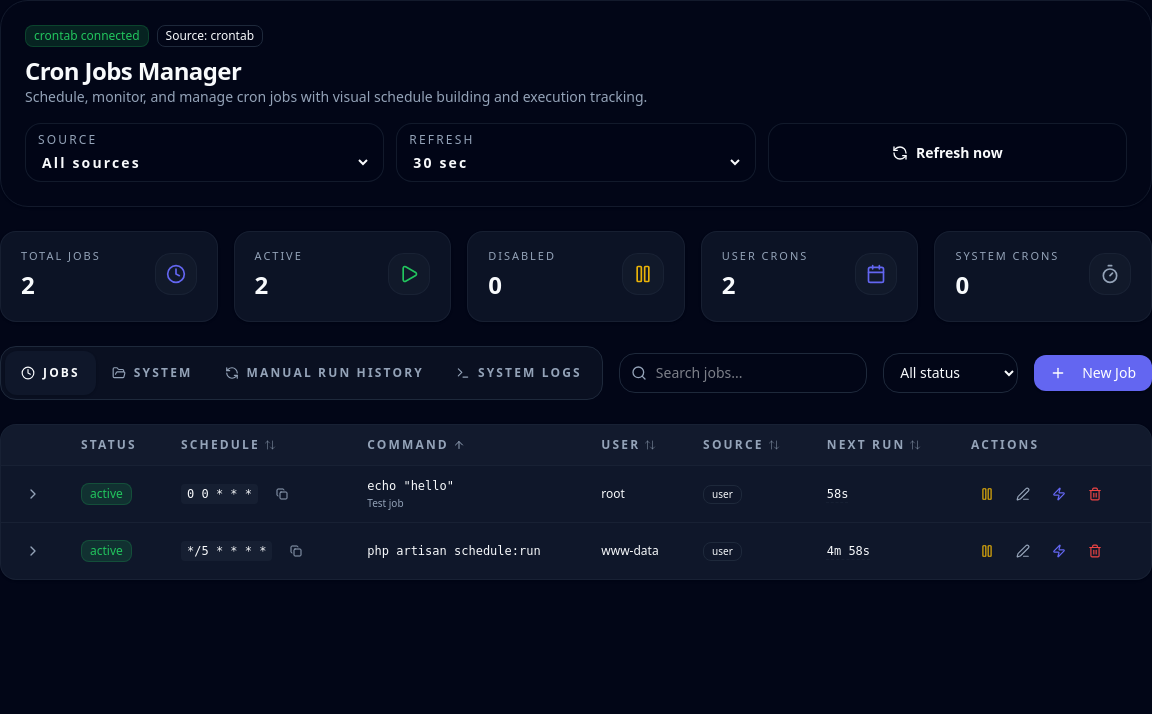
Test: CronsPage › handles next runs view
The width and height of the screenshot is (1152, 714).
Expected: the text "echo \"hello\"" is shown, [367,478,454,492]
Click the button named "Show next runs for echo \"hello\"" at x=33, y=494, box [17,478,49,510]
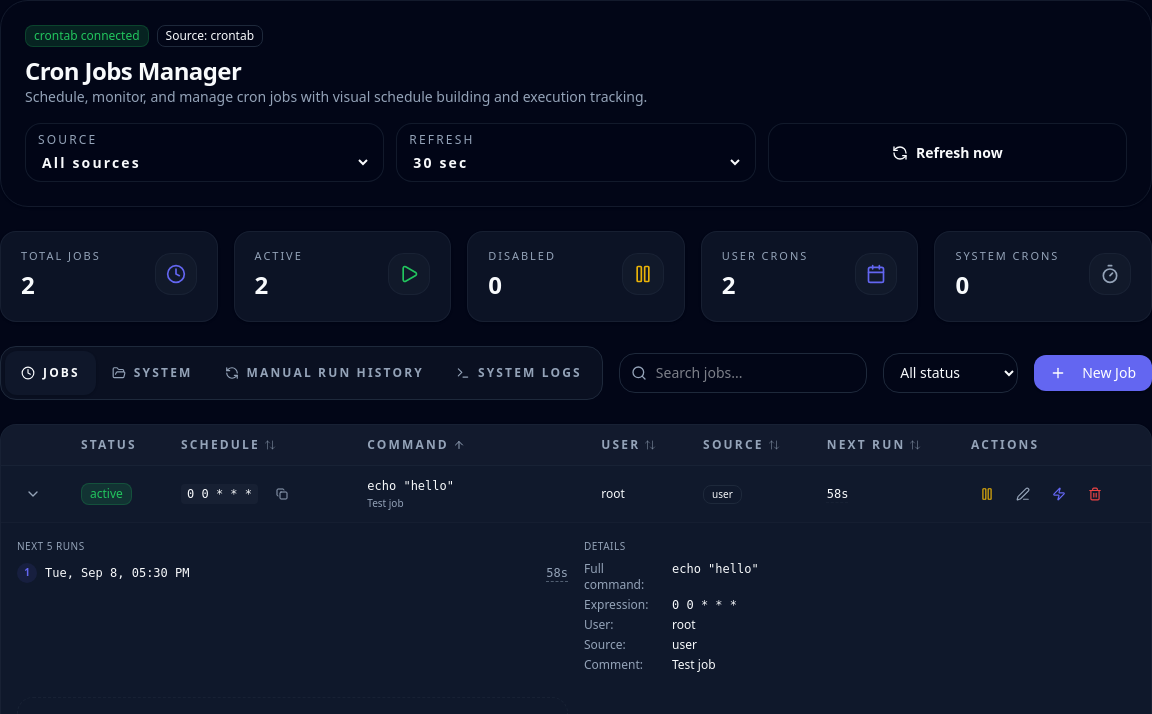
Result: the text "Next 5 runs" is shown at [17,539,85,553]
